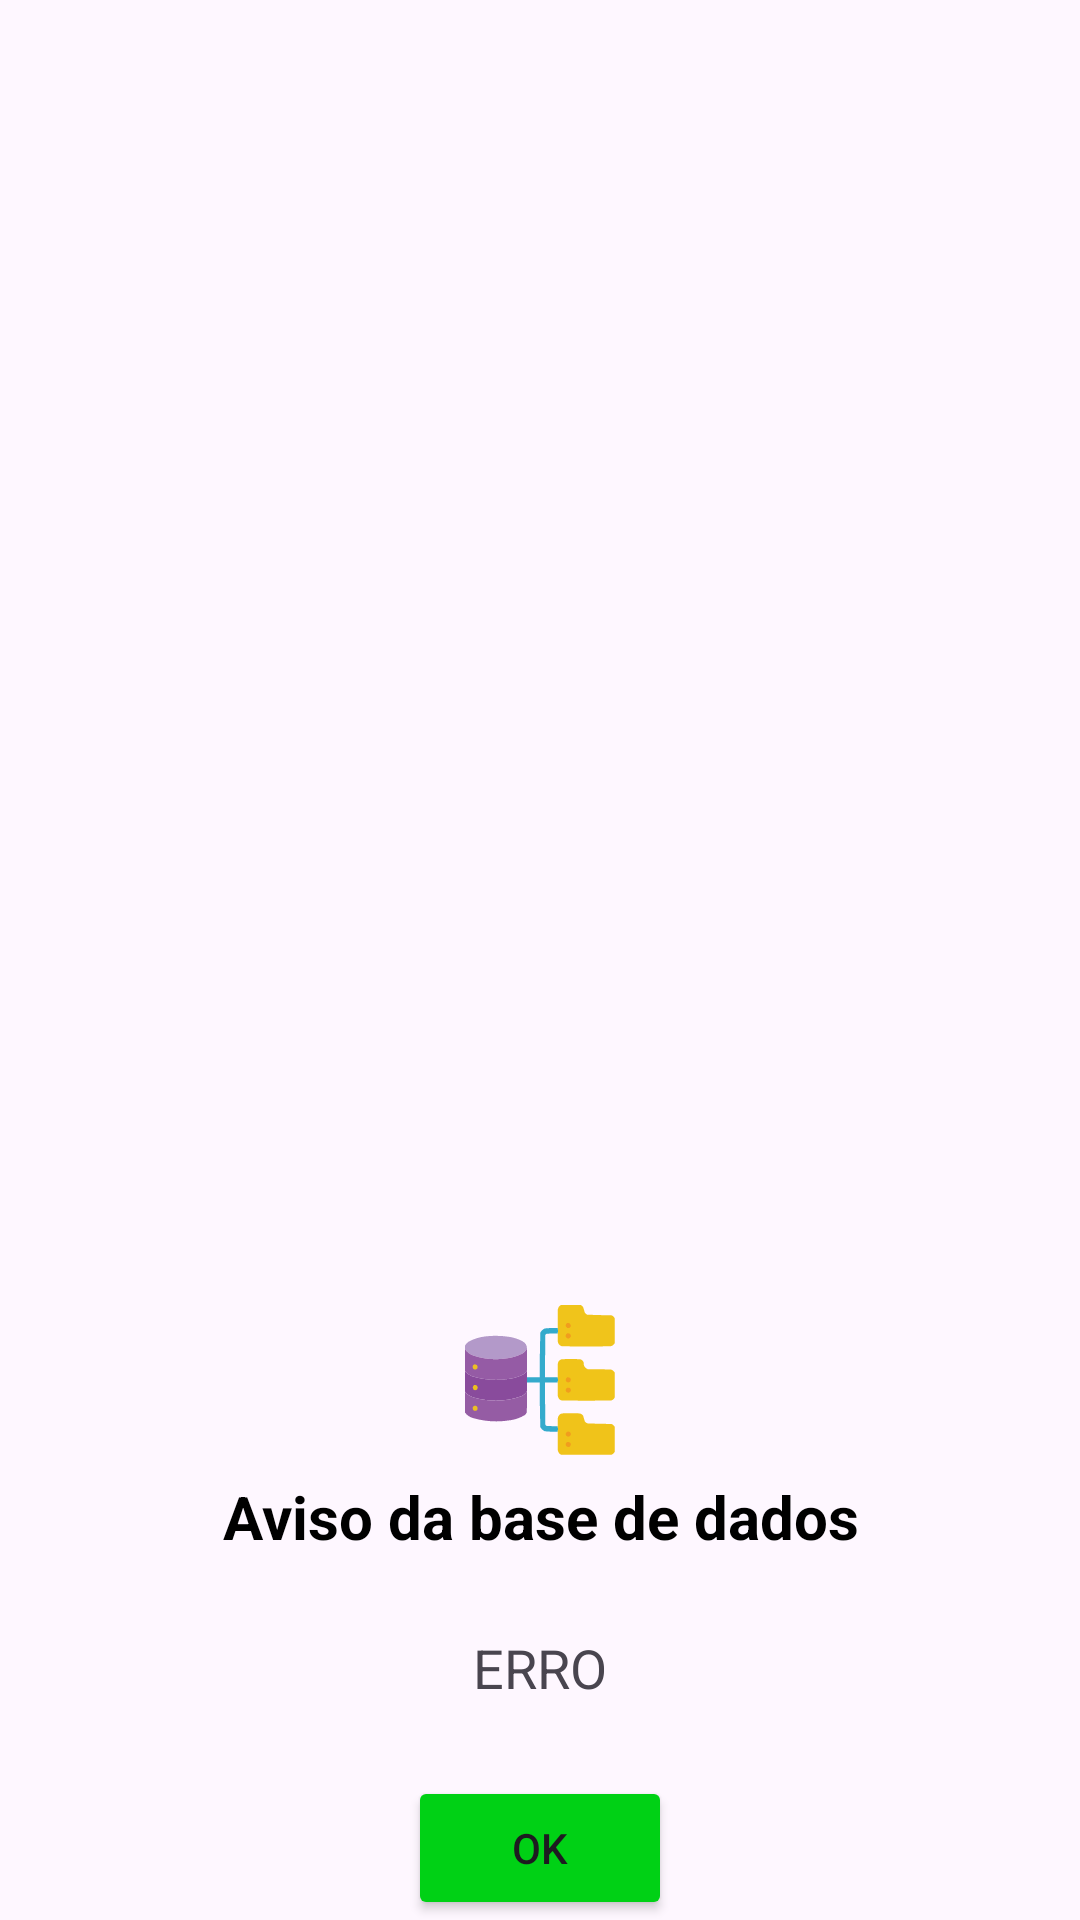

Icon bounding boxes for this 1080 × 1920 phone screenshot, format (x1, y1, x2, y2):
database: (465, 1305, 615, 1455)
